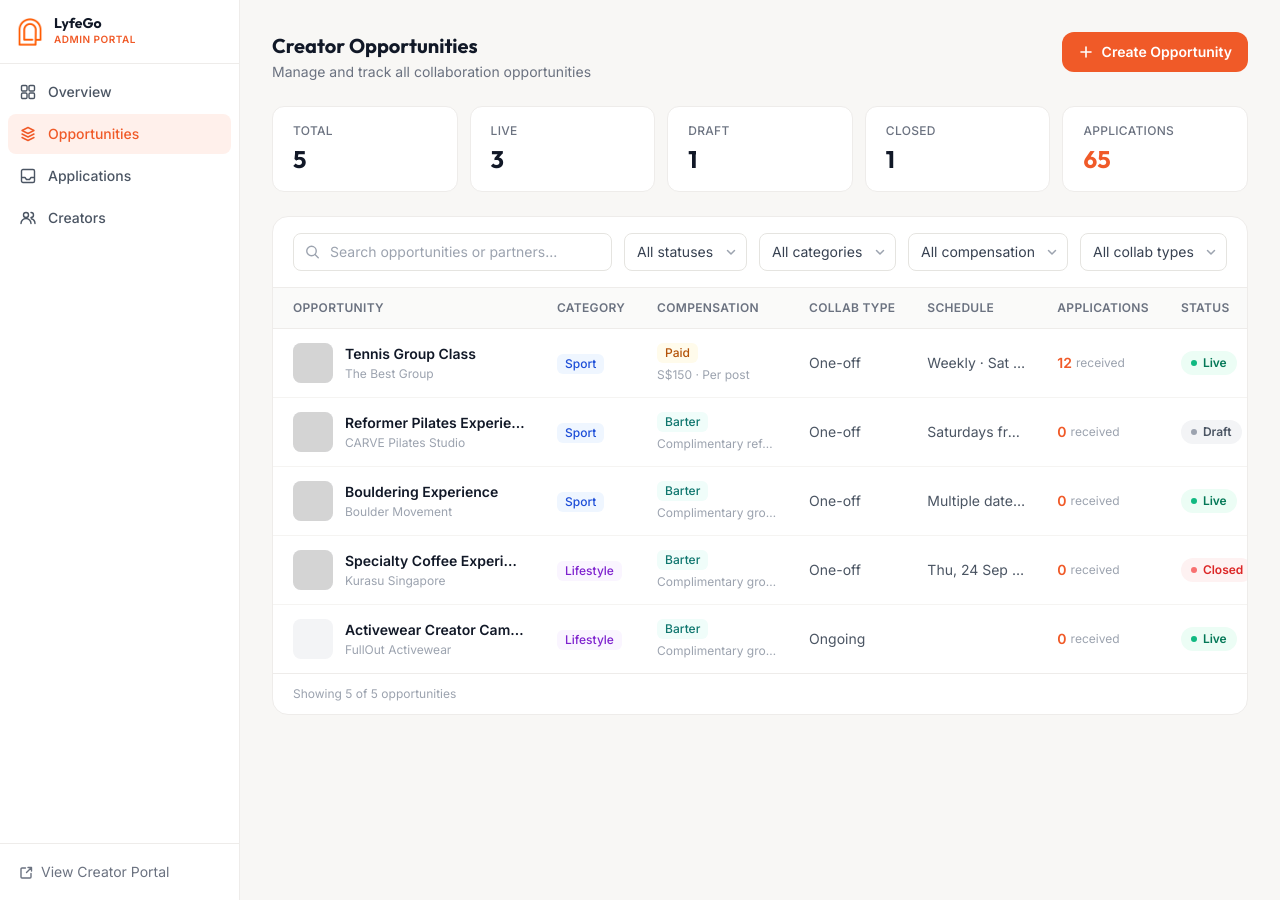
Admin Opportunities list › clears every filter at once
The image size is (1280, 900).
Expected: the button "Clear all filters" is not shown
Step 1. Select "Closed" in the dropdown named "Status" → (686, 252), box [624,233,747,271]
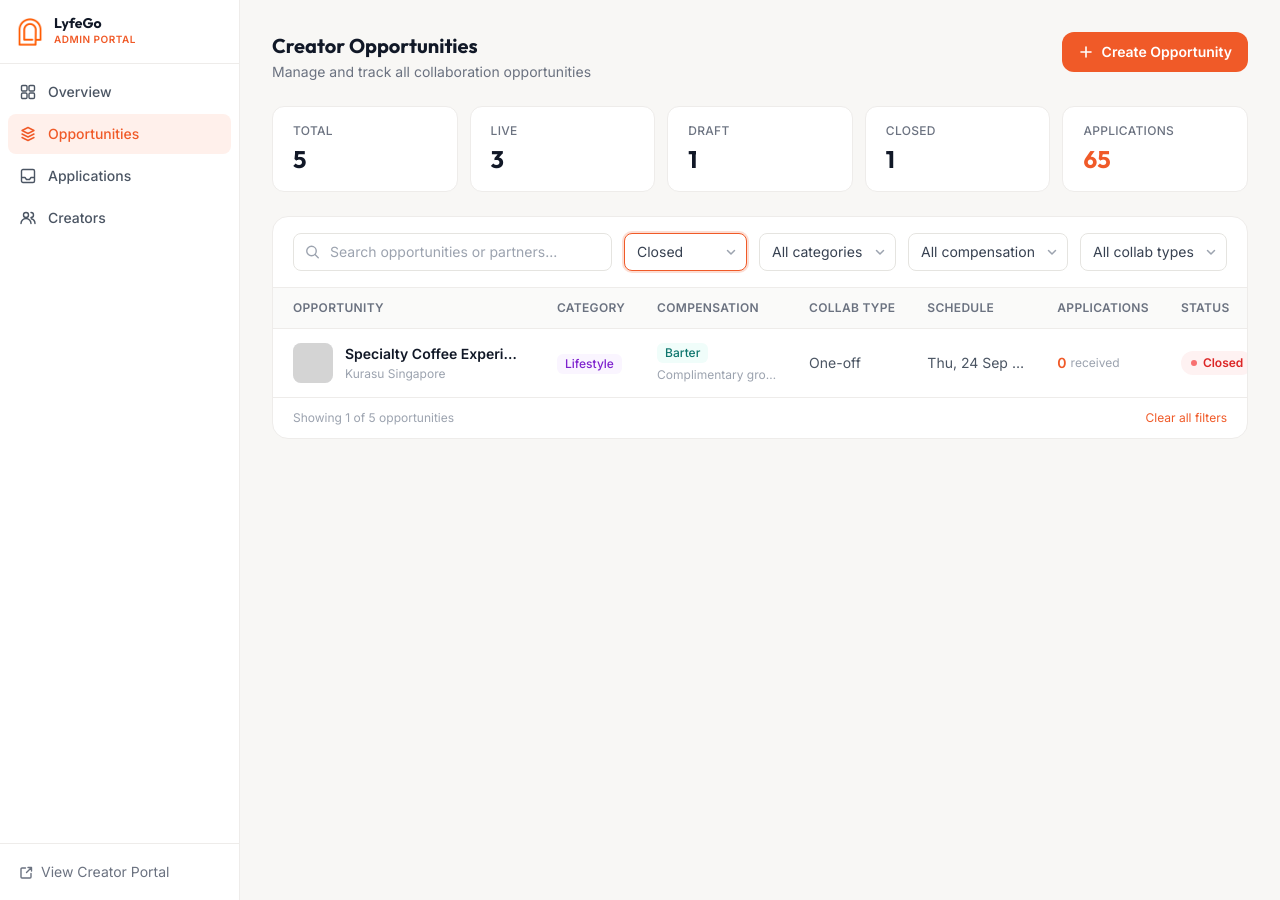
Step 2. Type "zzz" into the search field labelled "Search opportunities or partners" → (452, 252), box [293,233,612,271]
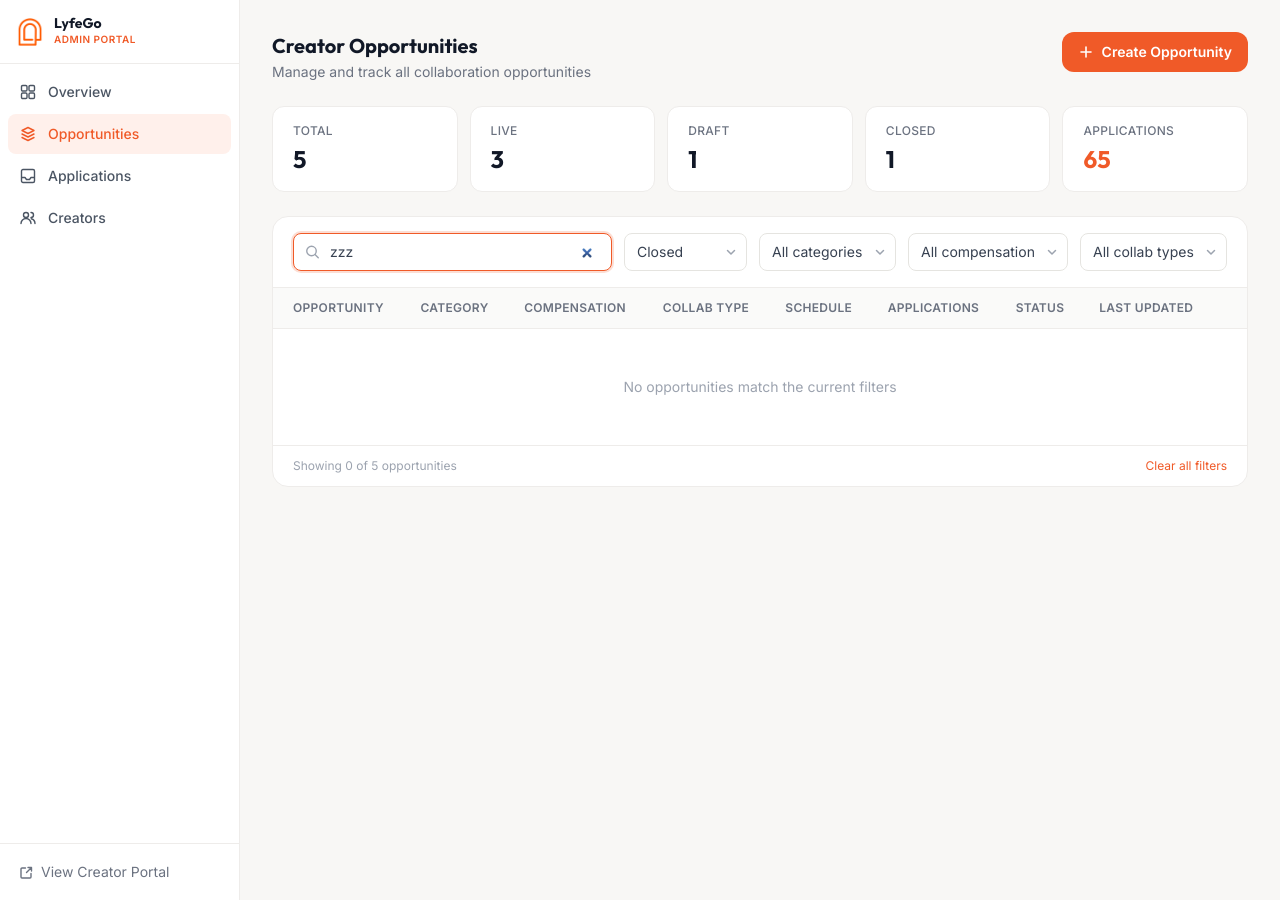
Step 3. Click the button "Clear all filters" → (1186, 466), box [1146,458,1227,474]
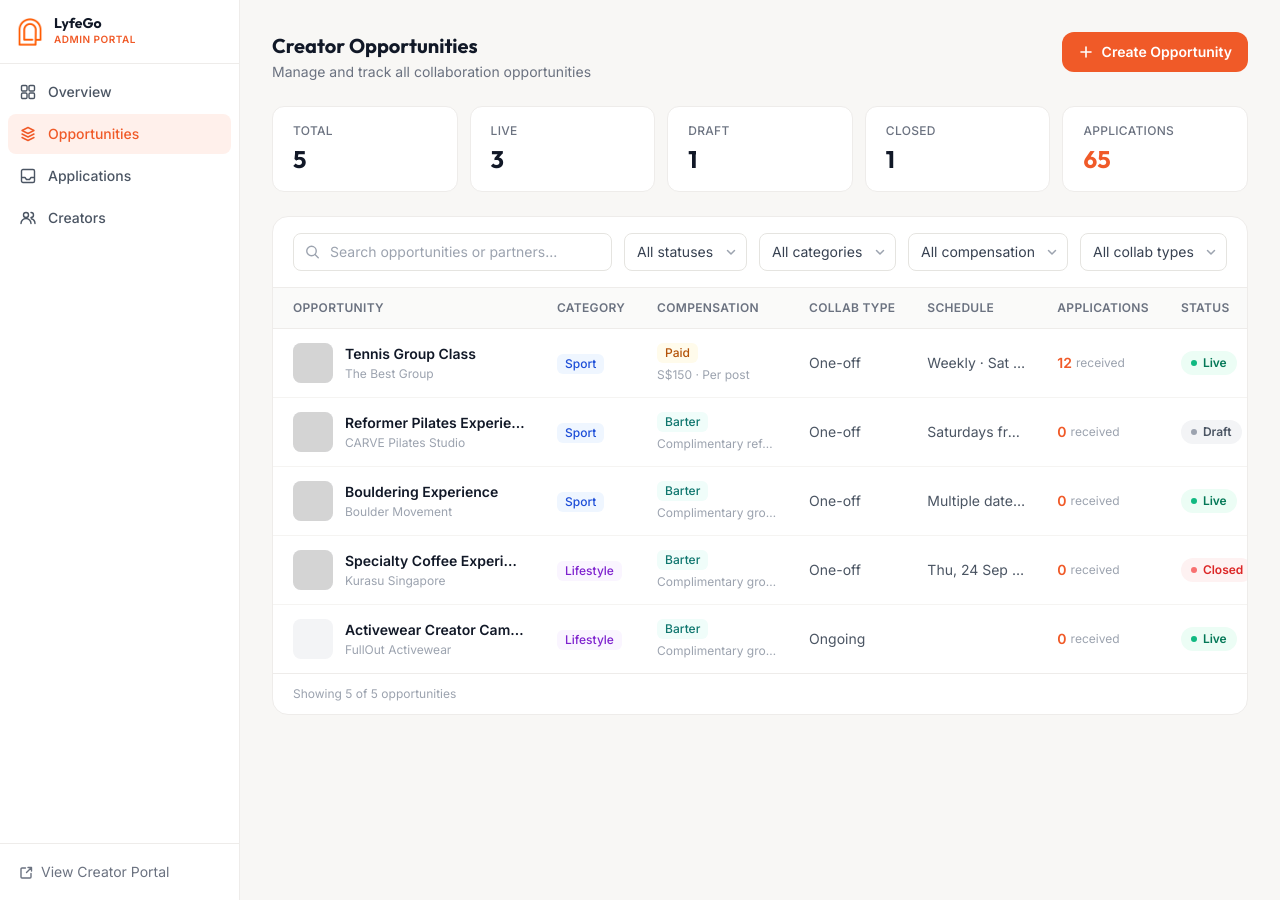
Now the text "Showing 5 of 5 opportunities" is shown, box [293,686,456,702]
Now the search field labelled "Search opportunities or partners" is empty, box [293,233,612,271]
